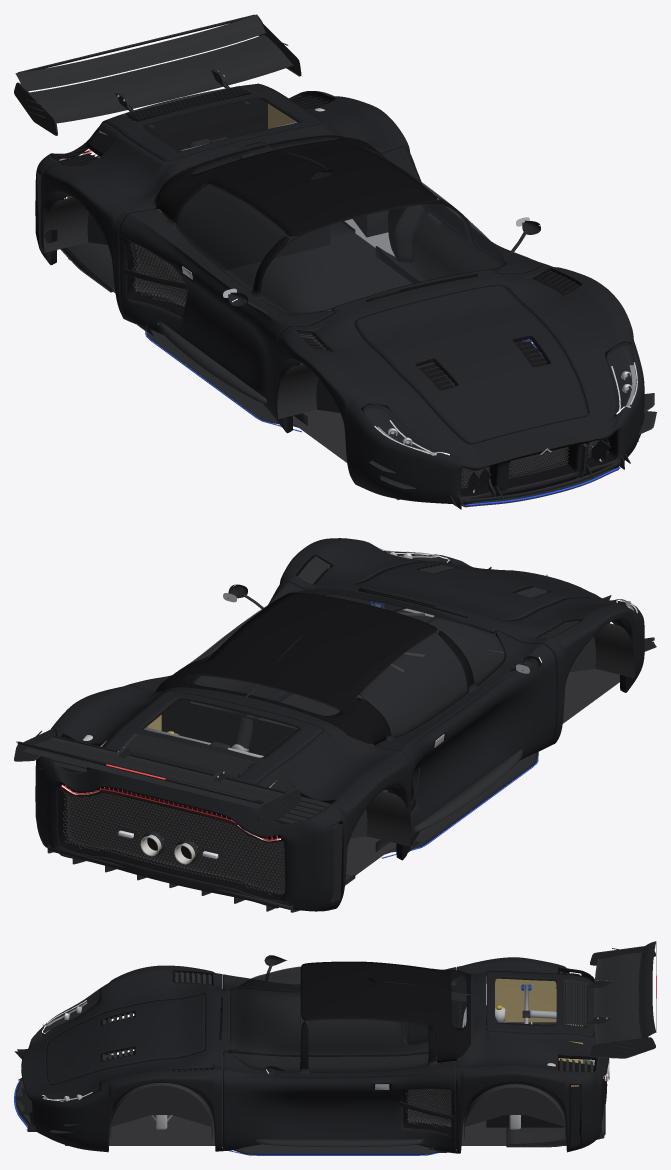
The model's file is aurora.glb.
3 renders of one model, top to bottom at view 1: azimuth 30°, elevation 25°; view 2: azimuth 150°, elevation 25°; view 3: azimuth 270°, elevation 25°, orthographic. The views are drawn at different scales.
Visible parts, largest first — view 1: Body, Glass, Hood, Door_R_skin, BayBulkheads, Floor, Wing, Door_L_skin, Door_R_glass, WingFlap, EngineCover, Lens (+11 smaller); view 2: Body, Door_R_skin, Floor, Glass, TailMesh, Hood, Door_R_glass, EngineCover, Wing, BayBulkheads, Liner1.41-1, Liner-1.41-1 (+11 smaller); view 3: Body, Door_L_skin, Glass, Door_R_skin, Hood, Floor, Door_L_glass, Wing, EngineCover, Liner1.411, Liner-1.411, BayFoil (+14 smaller).
Boxes of the visible parts, left/top/right/bottom form: Body: left=35, top=88, right=644, bottom=504; Glass: left=143, top=97, right=505, bottom=314; Hood: left=354, top=285, right=587, bottom=443; Door_R_skin: left=119, top=182, right=334, bottom=426; BayBulkheads: left=100, top=99, right=330, bottom=270; Floor: left=68, top=232, right=638, bottom=499; Wing: left=29, top=34, right=294, bottom=123; Door_L_skin: left=357, top=145, right=552, bottom=343; Door_R_glass: left=176, top=183, right=285, bottom=292; WingFlap: left=15, top=14, right=266, bottom=91; EngineCover: left=103, top=83, right=323, bottom=161; Lens: left=363, top=342, right=638, bottom=453; Body: left=35, top=538, right=644, bottom=911; Door_R_skin: left=356, top=630, right=557, bottom=855; Floor: left=258, top=610, right=619, bottom=875; Glass: left=143, top=588, right=505, bottom=757; TailMesh: left=62, top=791, right=285, bottom=895; Hood: left=355, top=561, right=587, bottom=620; Door_R_glass: left=359, top=631, right=468, bottom=737; EngineCover: left=103, top=690, right=323, bottom=784; Wing: left=23, top=734, right=285, bottom=808; BayBulkheads: left=161, top=700, right=297, bottom=755; Liner1.41-1: left=569, top=623, right=634, bottom=677; Liner-1.41-1: left=331, top=791, right=410, bottom=846; Body: left=21, top=957, right=608, bottom=1153; Door_L_skin: left=223, top=1021, right=456, bottom=1152; Glass: left=230, top=966, right=556, bottom=1072; Door_R_skin: left=223, top=964, right=458, bottom=1054; Hood: left=46, top=994, right=205, bottom=1084; Floor: left=65, top=1054, right=566, bottom=1145; Door_L_glass: left=308, top=1017, right=428, bottom=1072; Wing: left=594, top=950, right=641, bottom=1044; EngineCover: left=486, top=970, right=594, bottom=1037; Liner1.411: left=110, top=1083, right=212, bottom=1139; Liner-1.411: left=464, top=1084, right=566, bottom=1141; BayFoil: left=486, top=976, right=582, bottom=1086.
Bounding box in the file's own units: 2.21 × 1.09 × 5.13.
